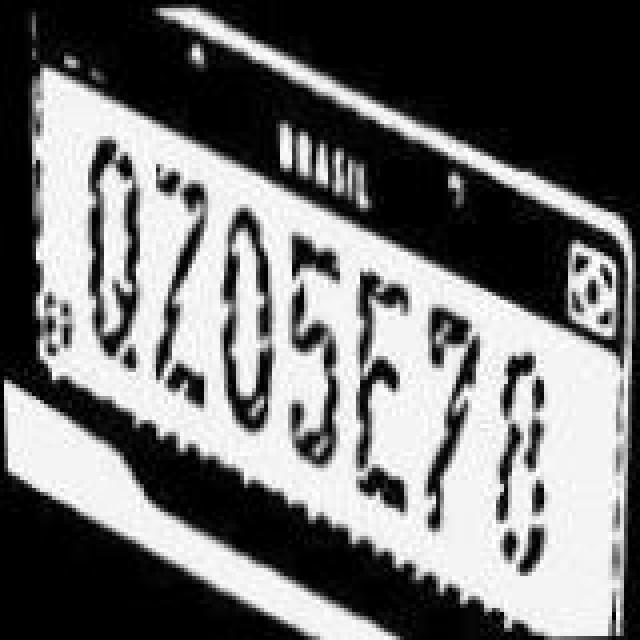5: (272, 222, 344, 470)
7: (416, 292, 488, 552)
8: (486, 342, 554, 582)
E: (344, 252, 412, 516)
O: (216, 194, 280, 438)
Q: (76, 124, 144, 372)
Z: (144, 156, 212, 416)
